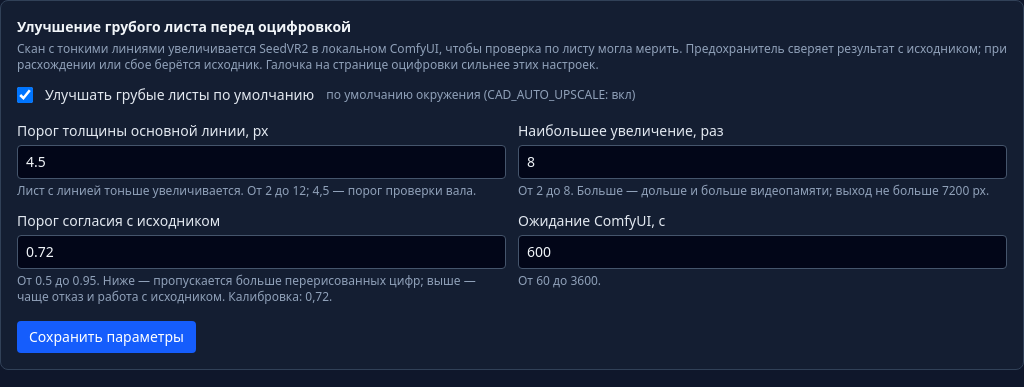
Test: UpscaleSettingsCard — улучшение грубого листа › параметры вне пределов не отправляются
Step 1. Replace the text in the number field labelled "Порог согласия с исходником" with "0.1" → coordinates (262, 252), box [17,235,506,269]
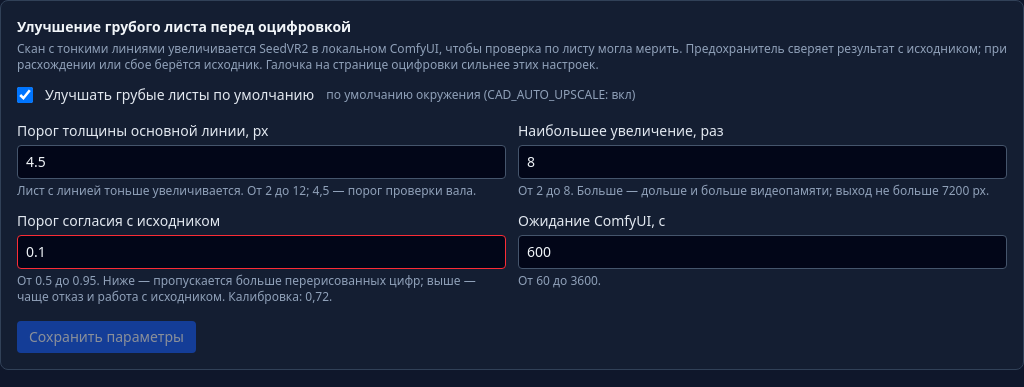
Expected: the button "Сохранить параметры" is disabled, [17,321,196,353]
